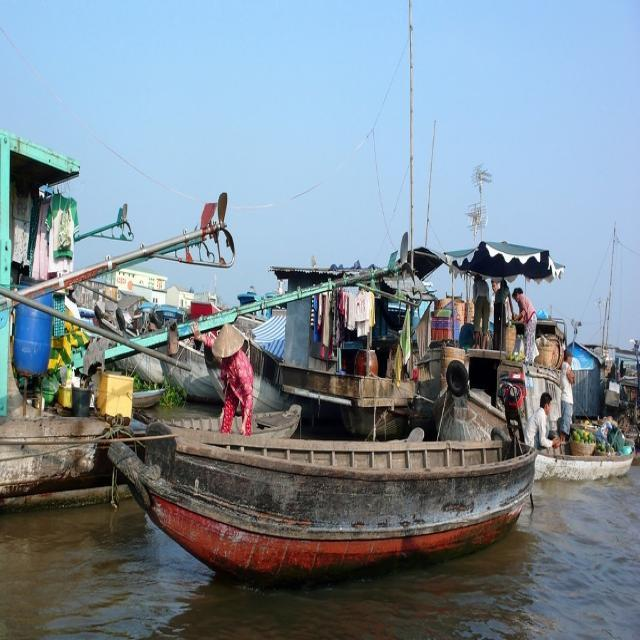boat: (124, 409, 538, 585), (525, 429, 639, 489)
